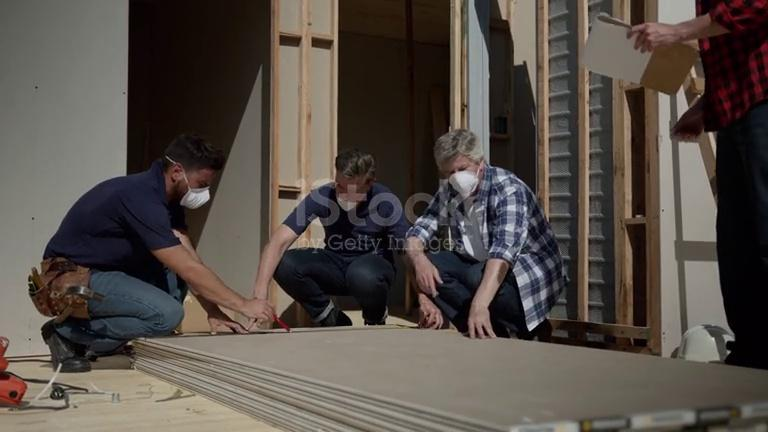mask: (447, 170, 479, 198), (180, 184, 212, 209), (336, 193, 364, 212)
person: (27, 135, 275, 374), (624, 1, 768, 369), (404, 125, 567, 344), (244, 145, 426, 330)
